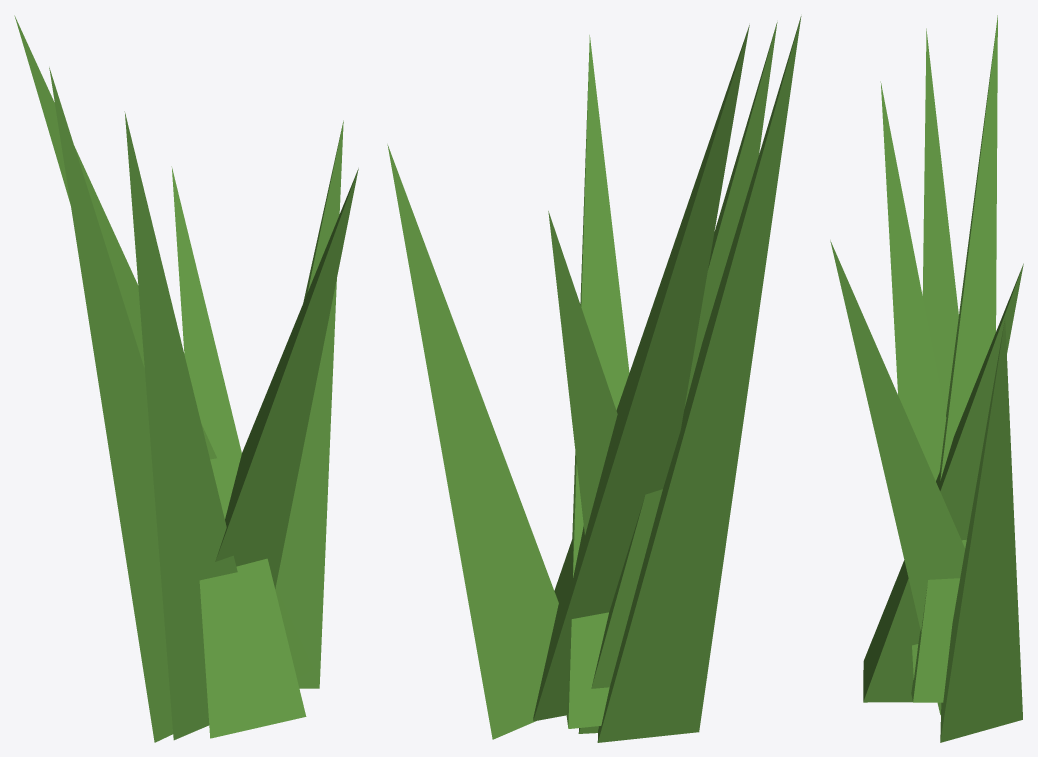
File: Grass_A.glb
The picture shows the model from 3 angles, left to right: view 1: azimuth 30°, elevation 25°; view 2: azimuth 150°, elevation 25°; view 3: azimuth 270°, elevation 25°; orthographic projection. The views are drawn at different scales.
Parts seen in each view (by area): view 1: Grass_A; view 2: Grass_A; view 3: Grass_A.
Boxes of the visible parts, <box> form: Grass_A: <box>14,15,358,742</box>; Grass_A: <box>387,16,801,742</box>; Grass_A: <box>830,15,1023,742</box>.
Size of the model in its own units: 0.2766 by 0.5594 by 0.1589.
